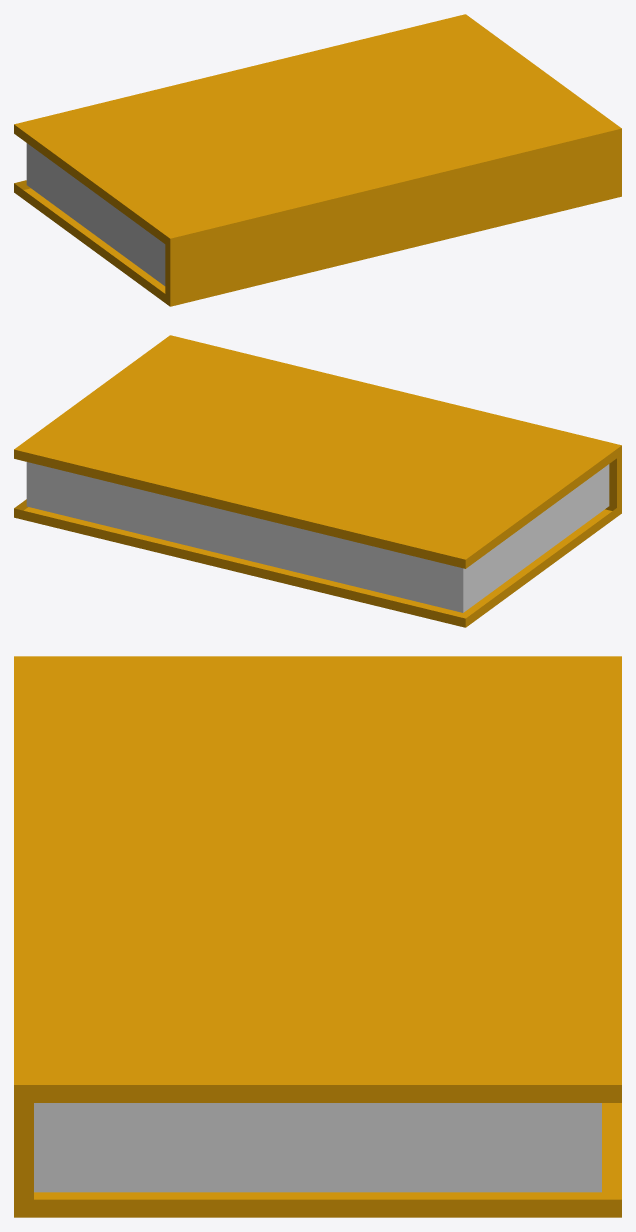
File: bookorangeglb.glb
3 views of the same model, one above another, from view 1: azimuth 30°, elevation 25°; view 2: azimuth 150°, elevation 25°; view 3: azimuth 270°, elevation 25° (orthographic). The views are drawn at different scales.
Visible parts, largest first — view 1: Cube, Cube.001; view 2: Cube, Cube.001; view 3: Cube, Cube.001.
Part boxes in pixels (x1=…): Cube: x1=14, y1=14, x2=621, y2=306; Cube.001: x1=26, y1=143, x2=165, y2=285; Cube: x1=14, y1=335, x2=621, y2=627; Cube.001: x1=26, y1=462, x2=609, y2=612; Cube: x1=14, y1=656, x2=621, y2=1217; Cube.001: x1=34, y1=1103, x2=601, y2=1192.
Size of the model in its own units: 3.23 by 0.4653 by 1.93.
